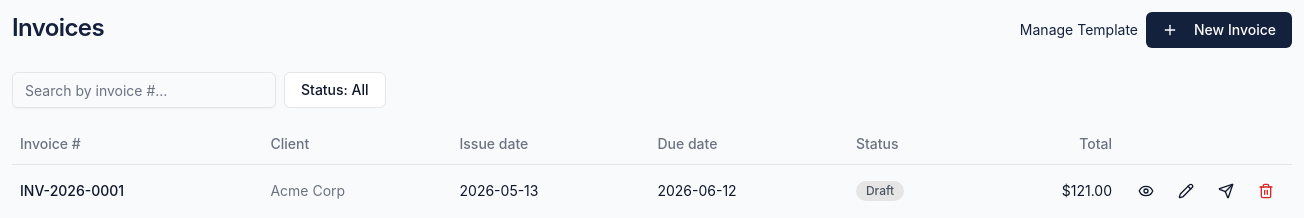
InvoicesListPage › search input shows clear button and clearSearch resets it
Type "INV" into the search field with test id "search-input".
click(144, 90); type("INV")  # box [12, 72, 276, 108]
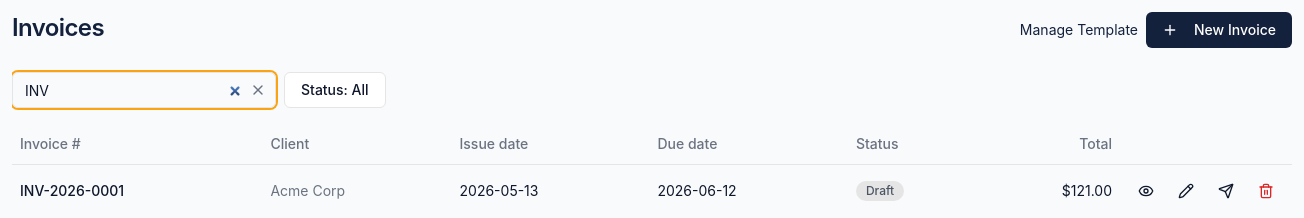
Expected: the button with test id "btn-clear-search" is shown
Click the button with test id "btn-clear-search".
click(258, 90)  # box [248, 80, 268, 100]
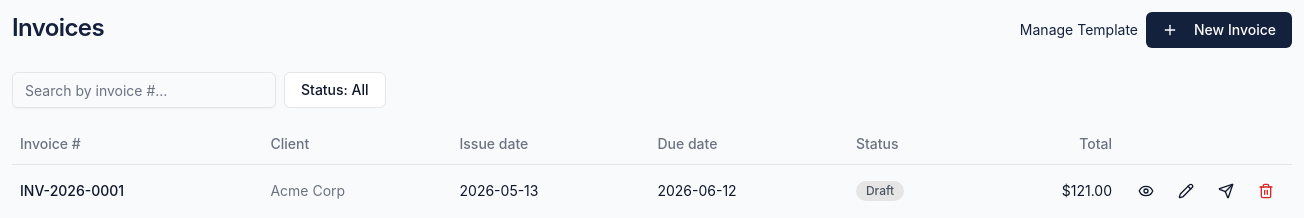
Expected: the search field with test id "search-input" is empty, [12, 72, 276, 108]
Expected: the button with test id "btn-clear-search" is gone
